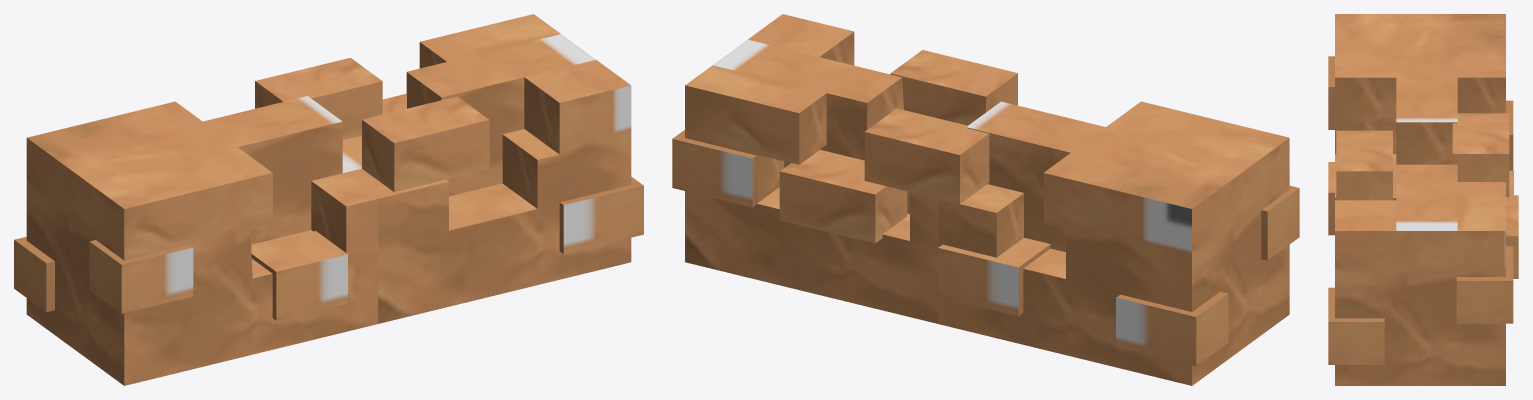
File: Brick_Wall_1x3.fbx
3 views of the same model, side by side, from view 1: azimuth 30°, elevation 25°; view 2: azimuth 150°, elevation 25°; view 3: azimuth 270°, elevation 25° (orthographic). The views are drawn at different scales.
Visible parts, largest first — view 1: Brick_Wall_1x3; view 2: Brick_Wall_1x3; view 3: Brick_Wall_1x3.
Part boxes in pixels (x1=…): Brick_Wall_1x3: x1=14, y1=14, x2=643, y2=385; Brick_Wall_1x3: x1=672, y1=14, x2=1299, y2=385; Brick_Wall_1x3: x1=1328, y1=14, x2=1518, y2=385.
Size of the model in its own units: 3.1 by 1 by 1.11.
